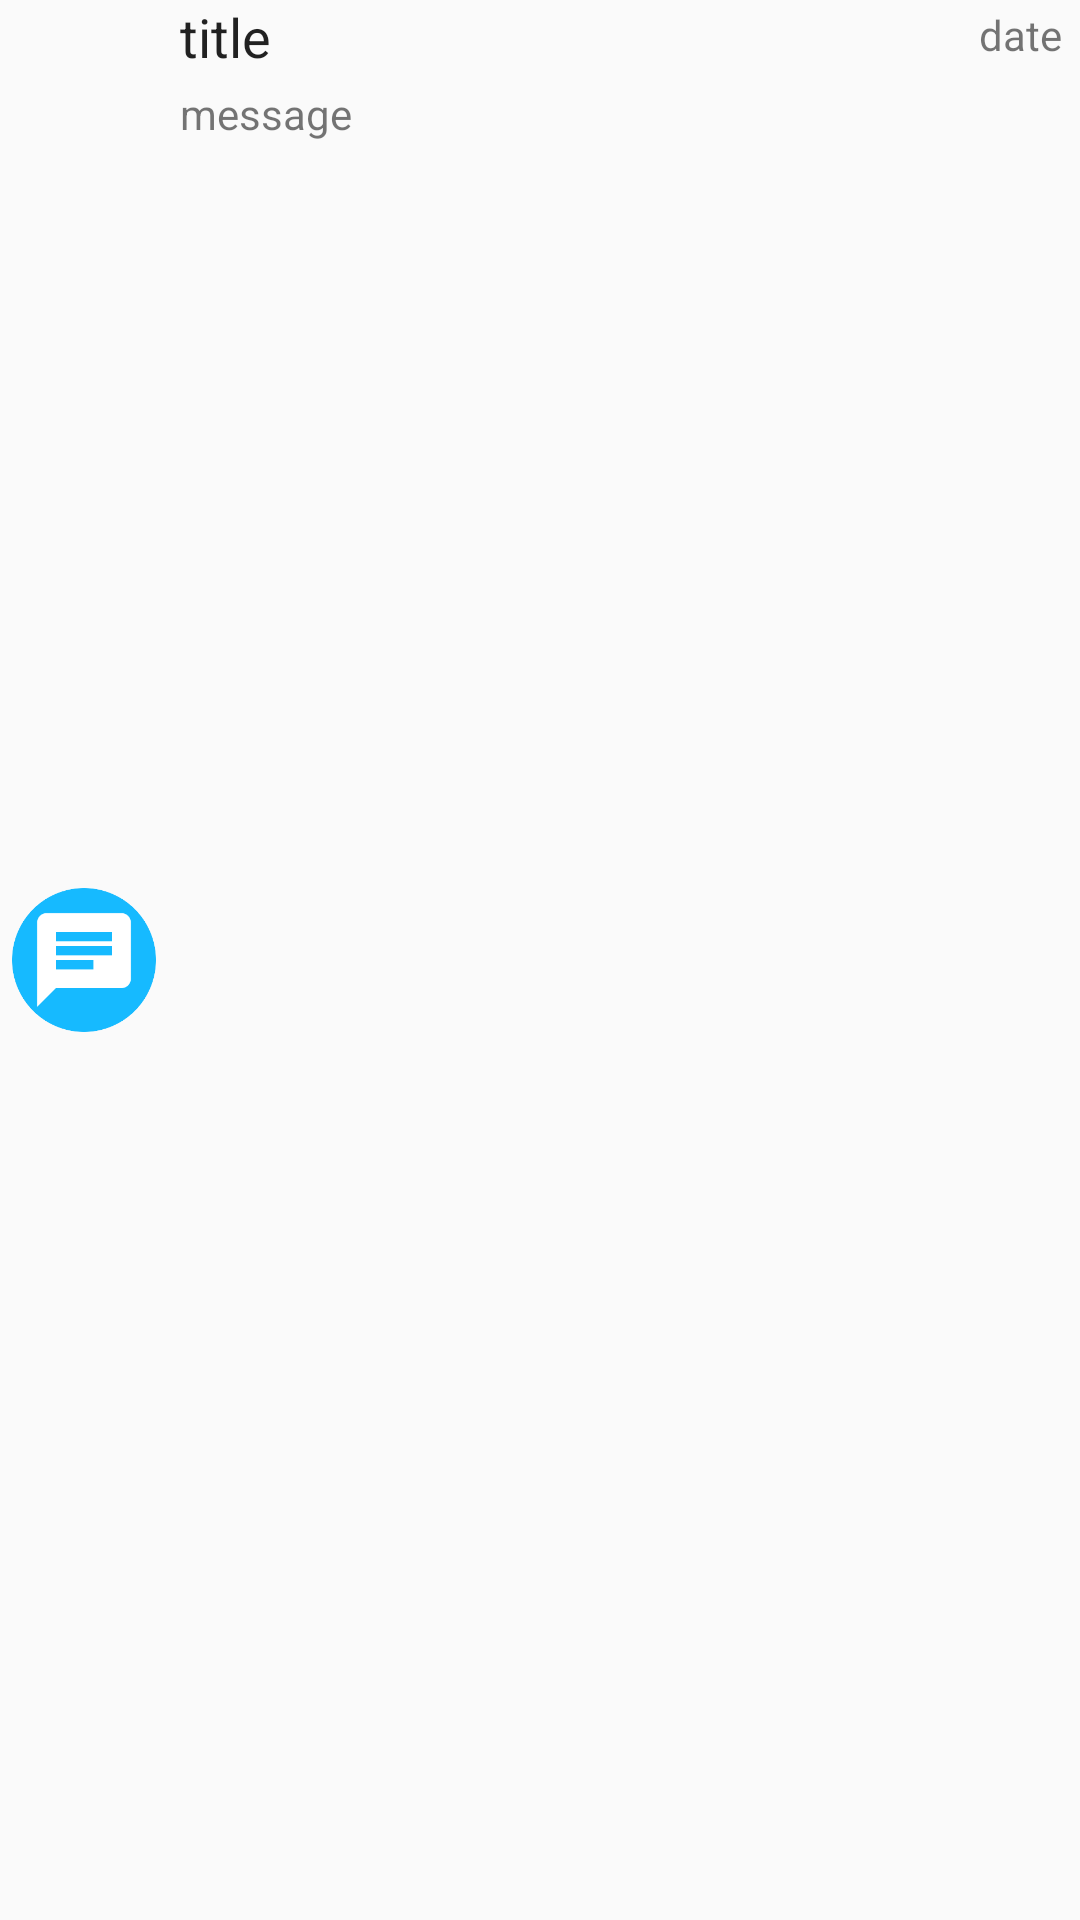

Named icons in this screenshot (1080x1920) and their centers, point (x, y):
message: point (84, 960)
